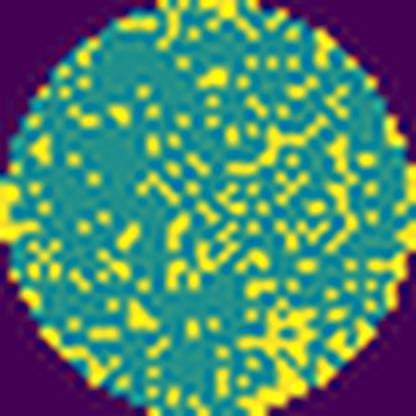Edge-Loc: (226, 113, 330, 177), (240, 302, 320, 366), (237, 362, 306, 411)
